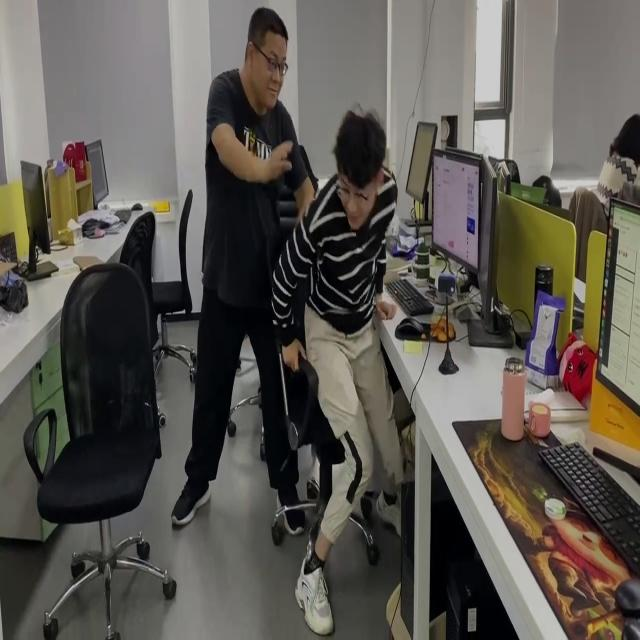fight: (170, 7, 413, 637)
